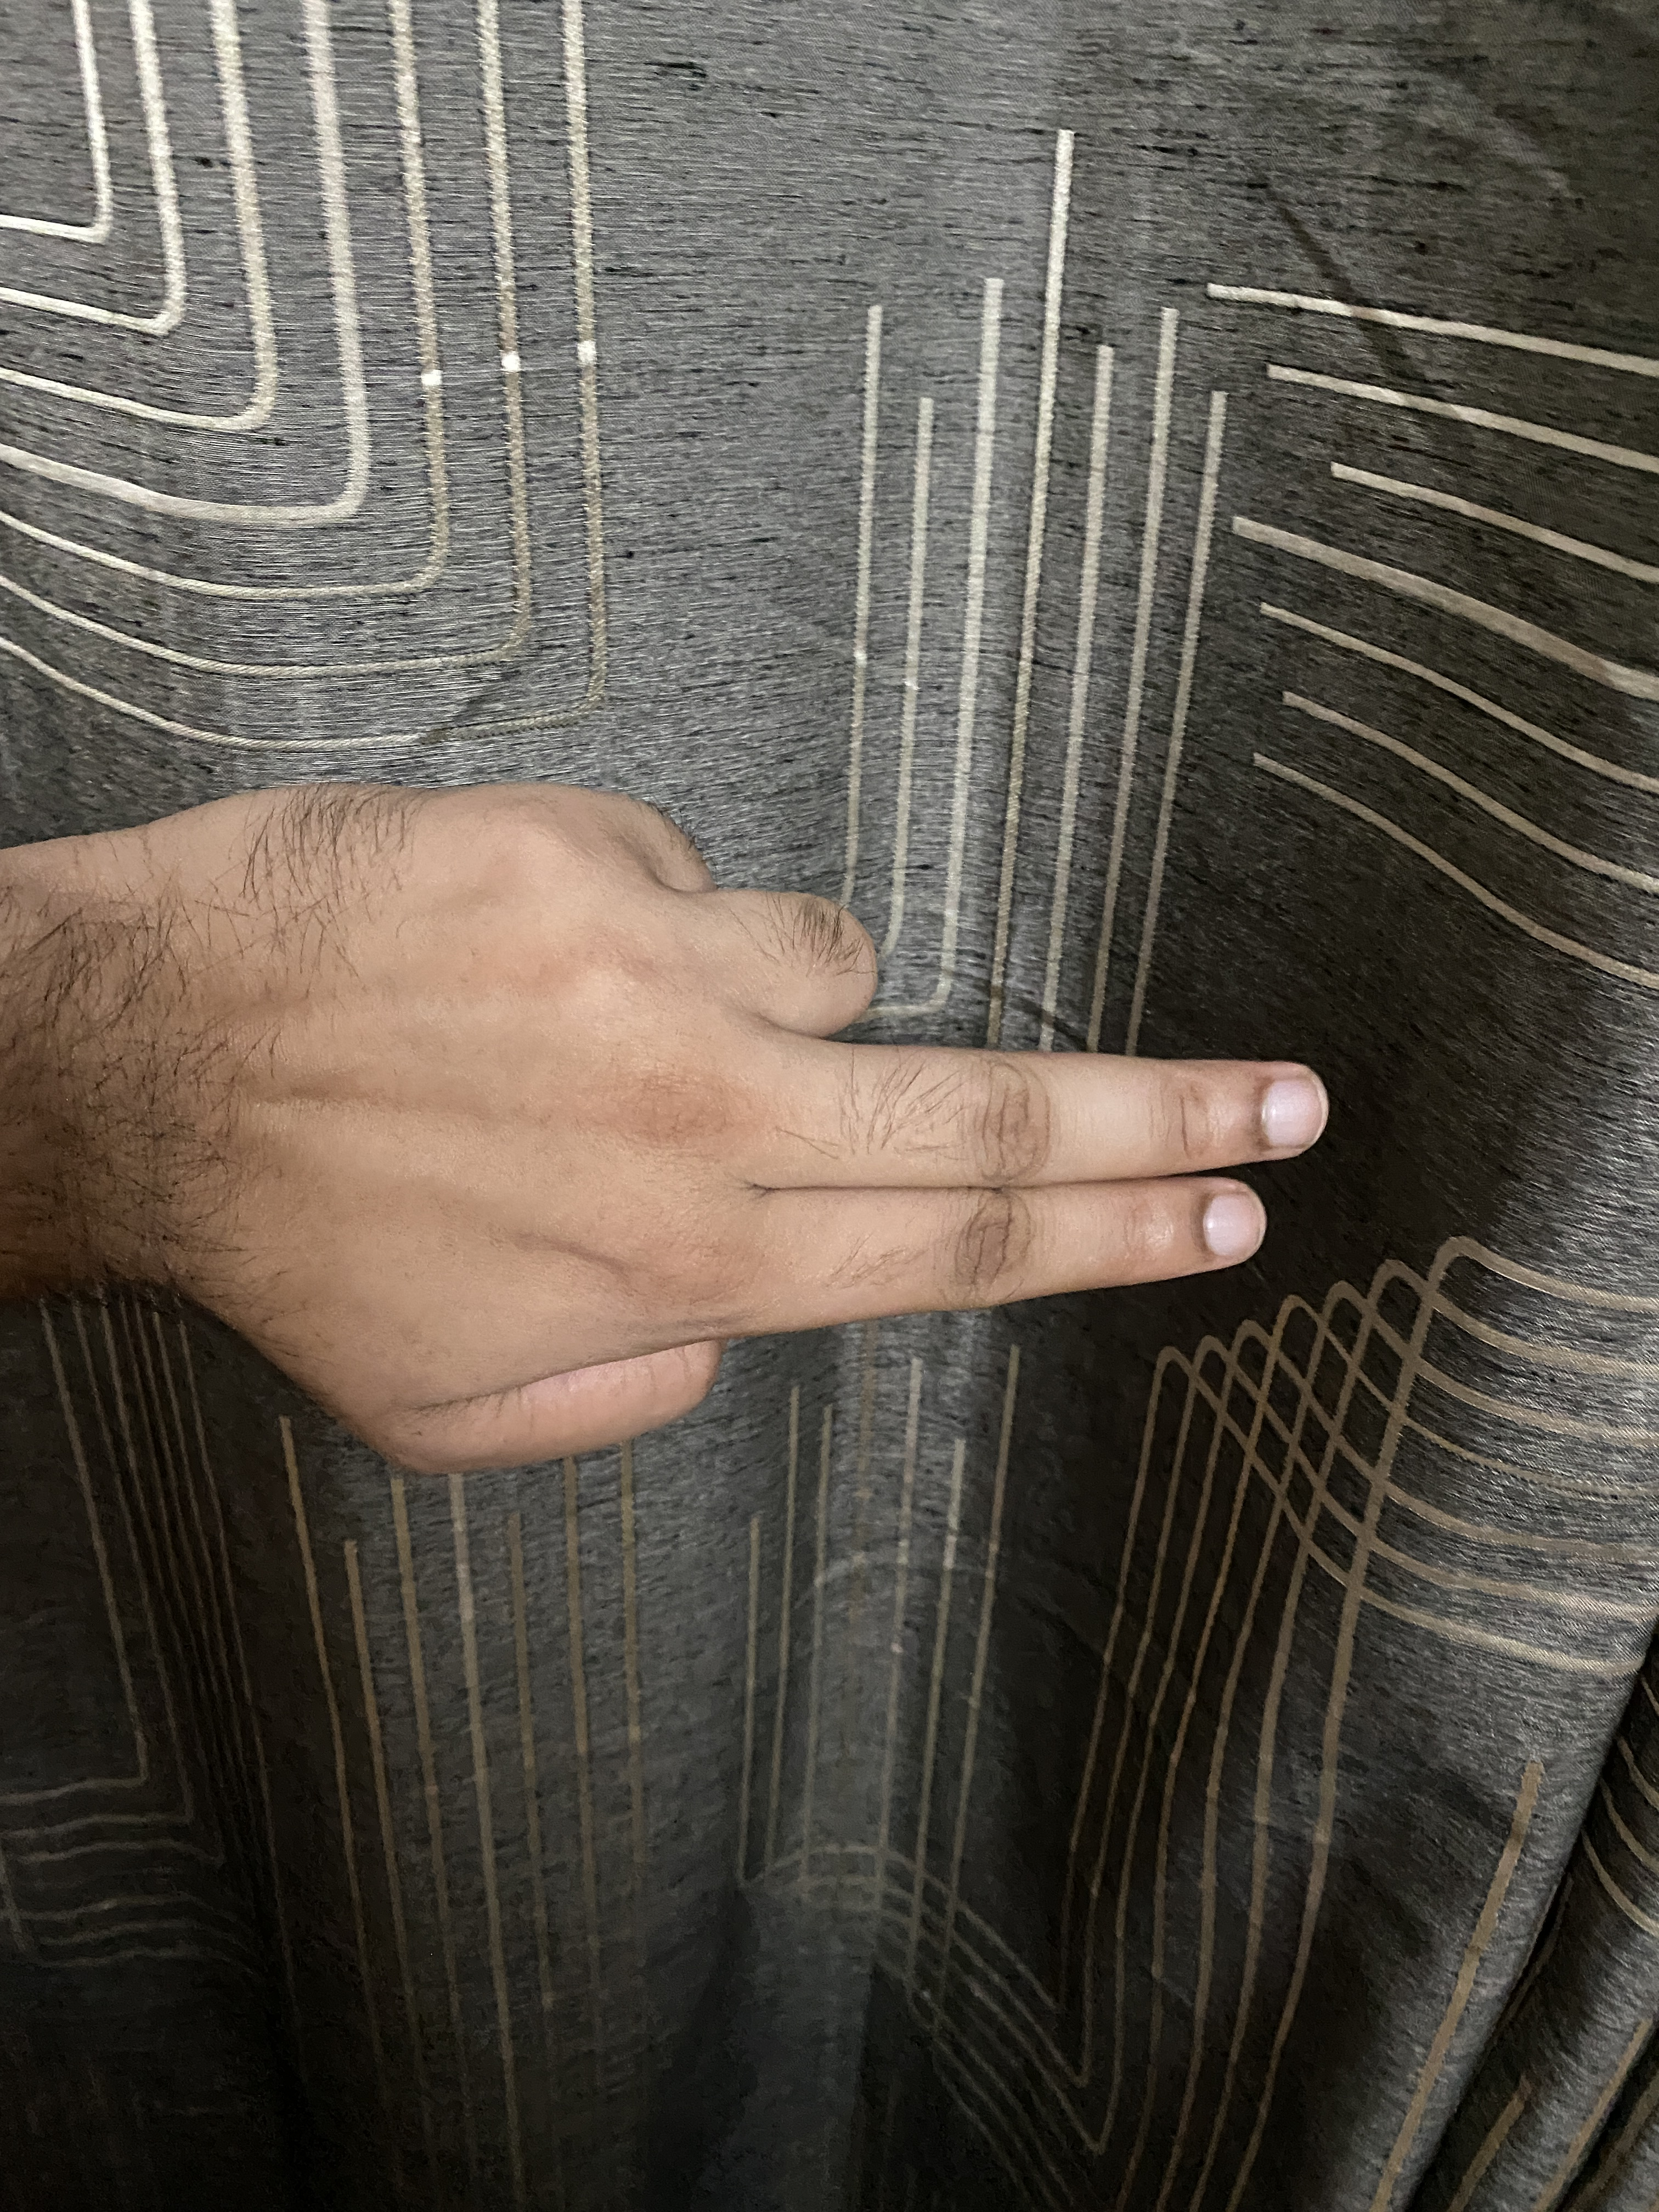left: (12, 690, 1476, 1635)
